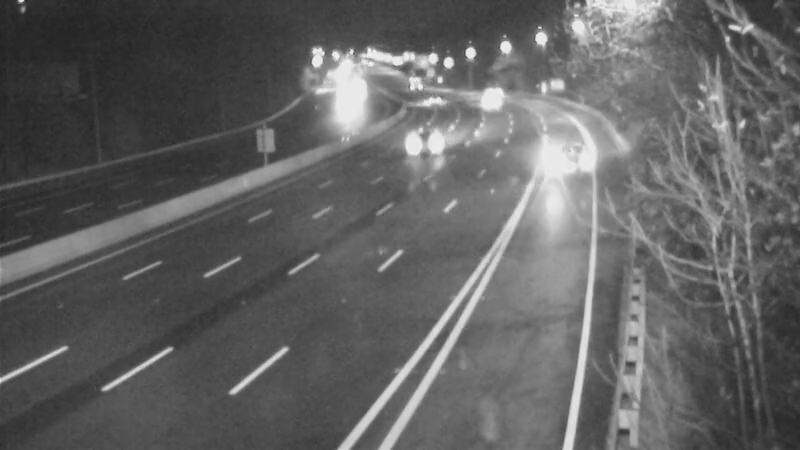vehicle: (526, 118, 606, 198), (383, 56, 433, 106), (469, 65, 519, 115), (461, 78, 511, 128), (395, 114, 445, 164), (321, 77, 371, 127)
